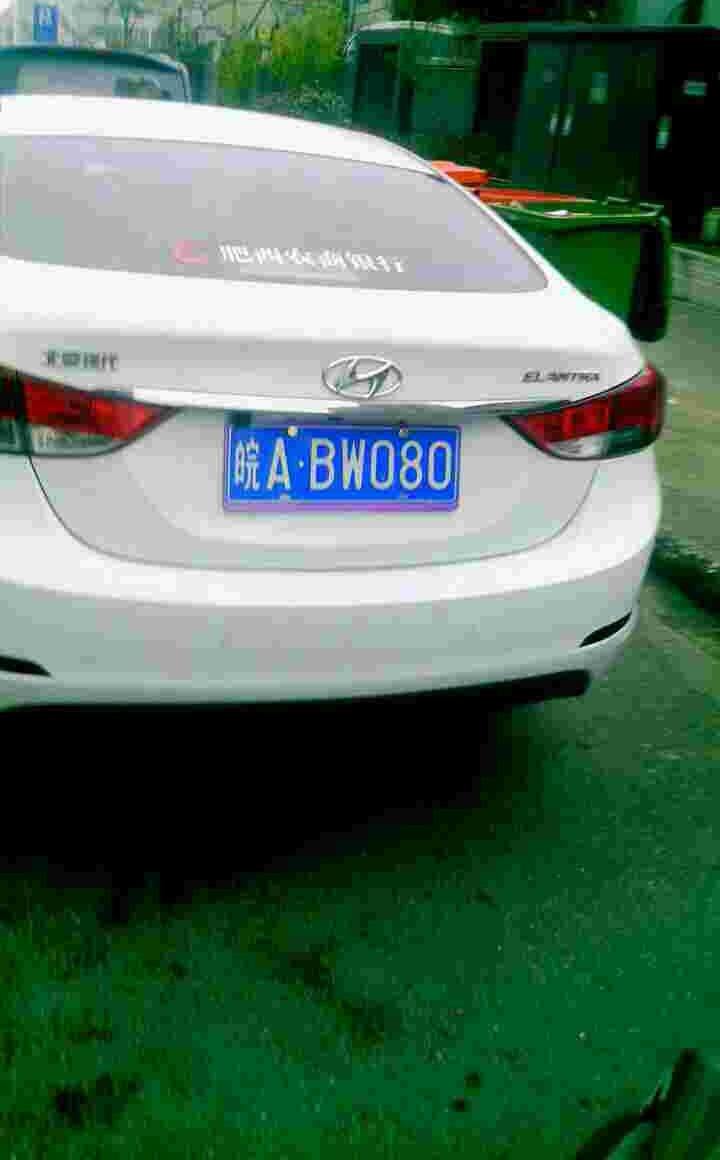license_plate: (233, 421, 463, 510)
